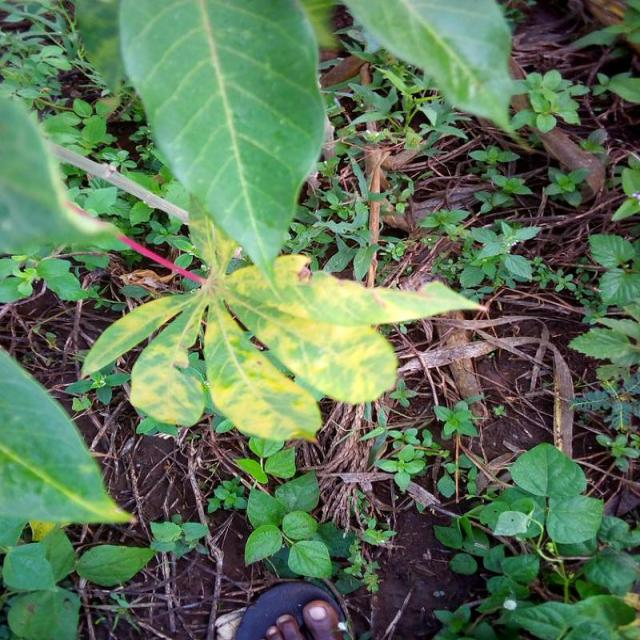cassava leaf: (117, 0, 327, 287), (342, 0, 524, 138), (0, 344, 134, 529)
